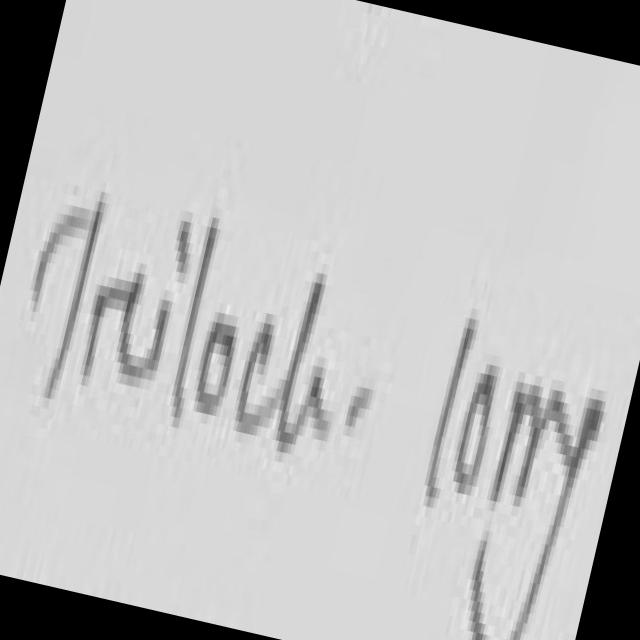0: (428, 338, 518, 564)
1: (404, 286, 491, 536)
T: (0, 147, 122, 416)
c: (211, 298, 300, 498)
g: (443, 354, 626, 640)
i: (134, 192, 206, 402)
k: (252, 206, 384, 504)
l: (152, 198, 236, 440)
m: (479, 348, 588, 524)
o: (178, 276, 260, 450)
r: (60, 228, 170, 432)
